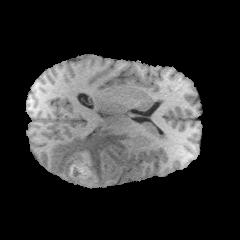glioma: (51, 129, 127, 187)
